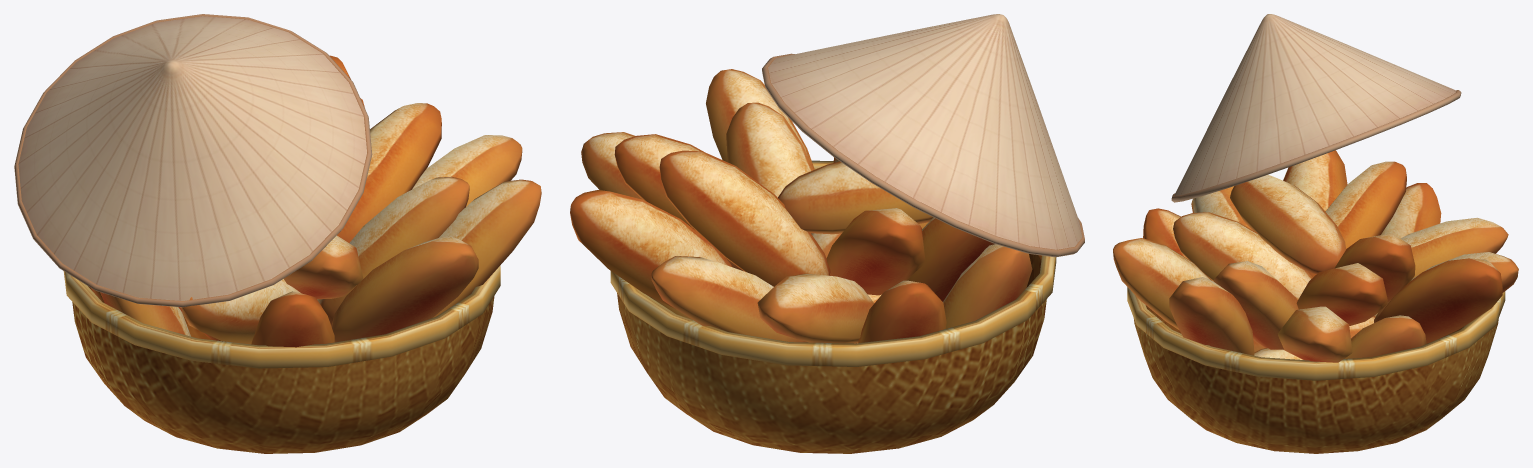
File: bread_basket.glb
3 views of the same model, side by side, from view 1: azimuth 30°, elevation 25°; view 2: azimuth 150°, elevation 25°; view 3: azimuth 270°, elevation 25° (orthographic). The views are drawn at different scales.
Visible parts, largest first — view 1: polySurface11, polySurface10, polySurface13, polySurface20, polySurface33, polySurface30, polySurface27, polySurface15, polySurface21, polySurface16, polySurface26, polySurface22 (+1 smaller); view 2: polySurface11, polySurface10, polySurface29, polySurface13, polySurface28, polySurface23, polySurface25, polySurface31, polySurface32, polySurface30, polySurface12, polySurface9 (+5 smaller); view 3: polySurface11, polySurface10, polySurface13, polySurface32, polySurface28, polySurface22, polySurface27, polySurface31, polySurface20, polySurface30, polySurface33, polySurface25 (+9 smaller).
Part boxes in pixels (x1,y1,x2,y2): polySurface11: [18, 16, 366, 300]; polySurface10: [72, 296, 494, 453]; polySurface13: [63, 266, 500, 368]; polySurface20: [331, 235, 478, 342]; polySurface33: [337, 103, 441, 242]; polySurface30: [317, 176, 469, 325]; polySurface27: [433, 179, 541, 317]; polySurface15: [14, 14, 372, 307]; polySurface21: [412, 135, 522, 206]; polySurface16: [251, 291, 334, 347]; polySurface26: [180, 279, 300, 343]; polySurface22: [284, 235, 363, 299]; polySurface11: [768, 14, 1082, 249]; polySurface10: [617, 293, 1046, 453]; polySurface29: [659, 150, 830, 286]; polySurface13: [610, 160, 1056, 366]; polySurface28: [570, 190, 731, 308]; polySurface23: [651, 256, 807, 342]; polySurface25: [757, 273, 874, 343]; polySurface31: [826, 208, 925, 295]; polySurface32: [778, 161, 933, 234]; polySurface30: [726, 102, 812, 197]; polySurface12: [943, 244, 1032, 328]; polySurface9: [858, 280, 946, 342]; polySurface11: [1174, 14, 1456, 195]; polySurface10: [1133, 318, 1498, 453]; polySurface13: [1127, 287, 1505, 380]; polySurface32: [1230, 174, 1346, 273]; polySurface28: [1376, 258, 1502, 343]; polySurface22: [1173, 212, 1312, 299]; polySurface27: [1169, 277, 1254, 355]; polySurface31: [1308, 161, 1406, 277]; polySurface20: [1113, 238, 1211, 330]; polySurface30: [1213, 261, 1298, 349]; polySurface33: [1296, 263, 1387, 325]; polySurface25: [1401, 217, 1508, 278].
Size of the model in its own units: 0.0792 by 0.0638 by 0.068.
1 material, 1 textured.
